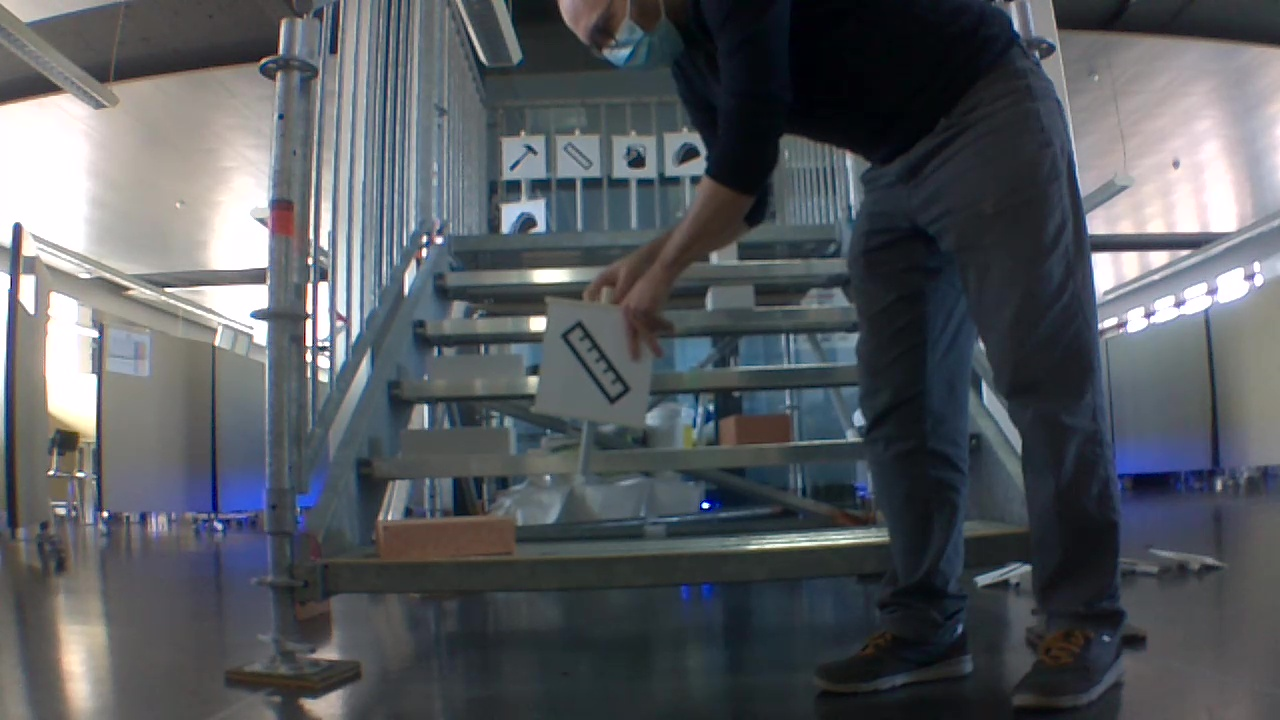brick: (374, 510, 518, 559), (398, 425, 515, 453), (714, 413, 795, 441), (425, 354, 527, 376), (705, 283, 755, 308)
bucket: (623, 137, 647, 172)
hammer: (504, 143, 540, 173)
ruler: (562, 319, 631, 405), (564, 138, 596, 174)
taco: (670, 139, 703, 171), (506, 207, 540, 237)
